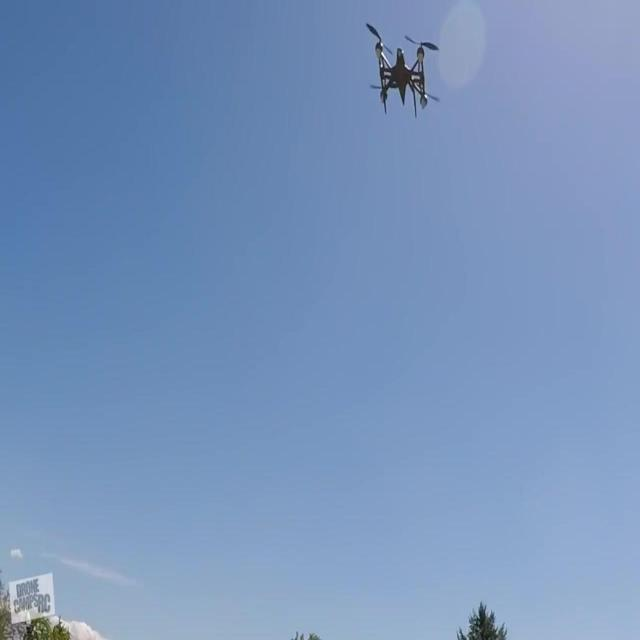drone: (364, 23, 440, 123)
